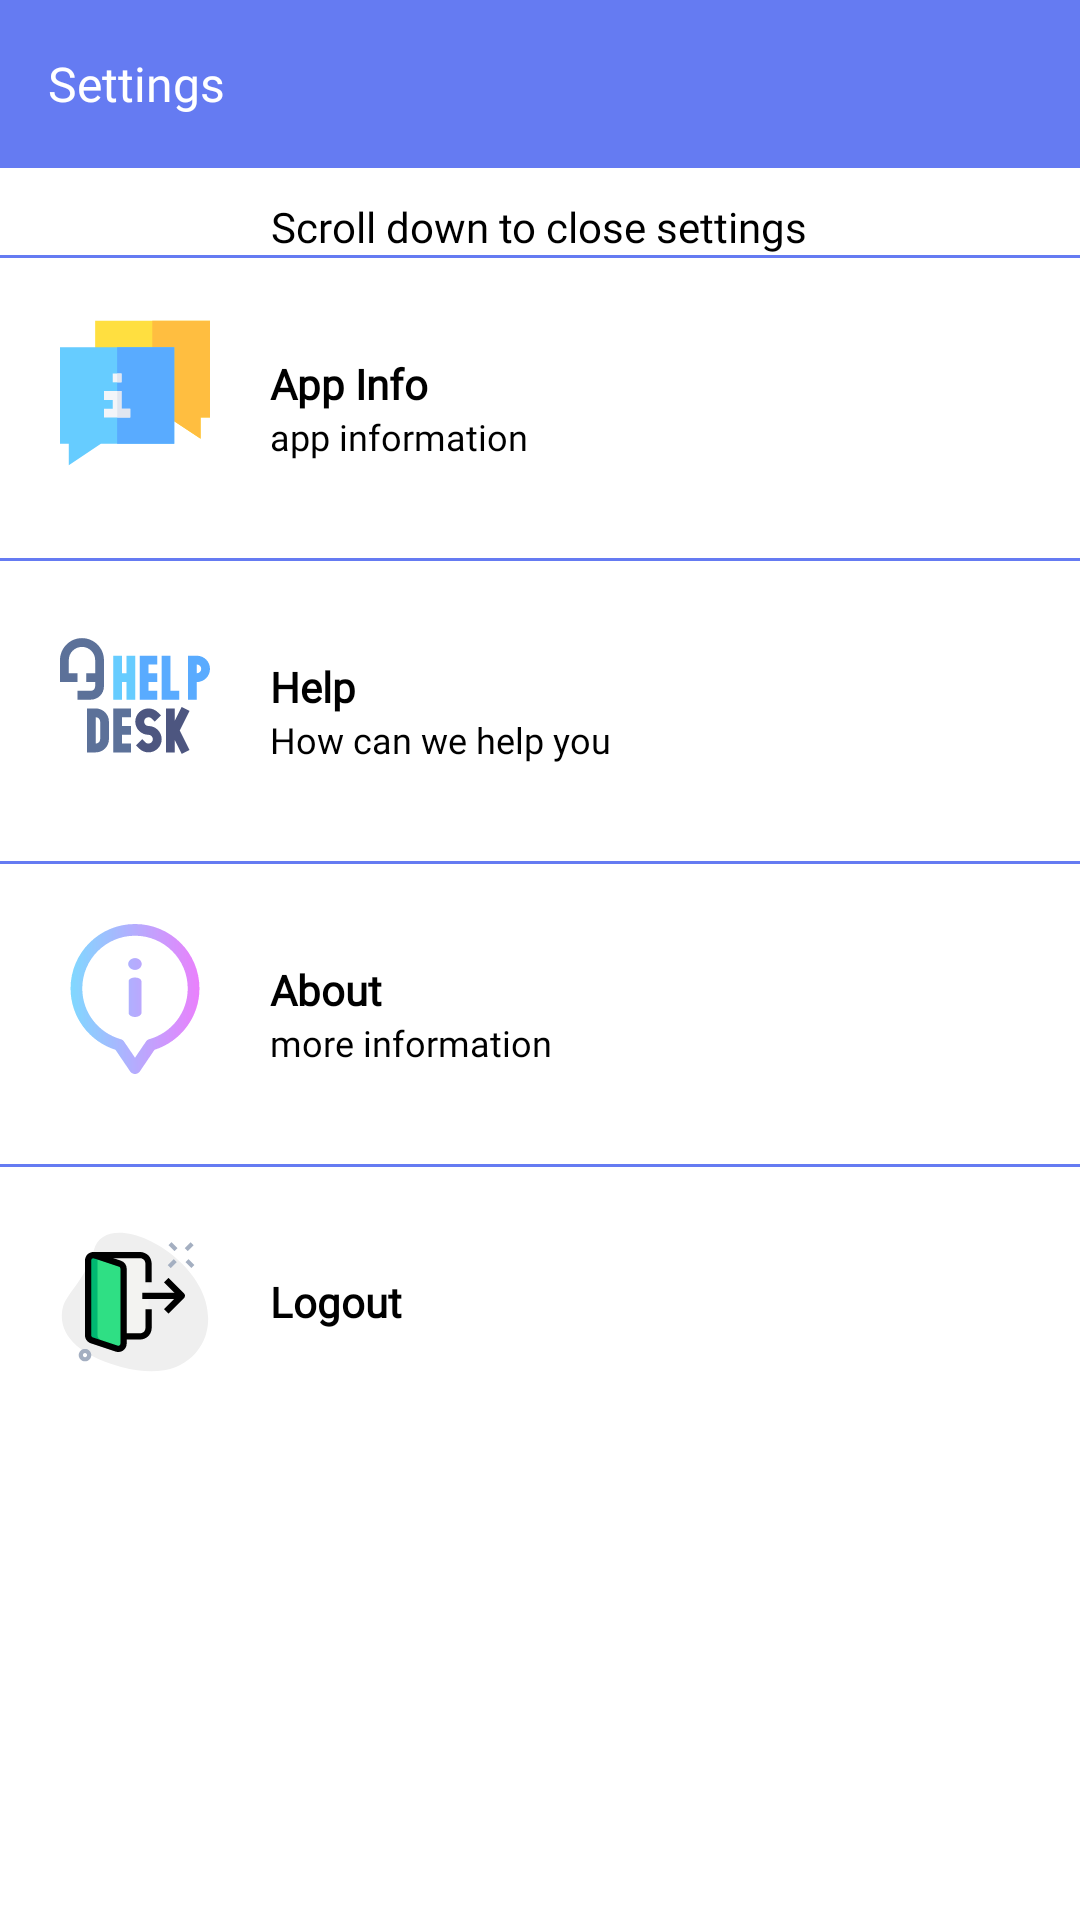

Where to tap for icons on this 1080 x 1920 app screen, as [x,y]:
informations: [135,392]
